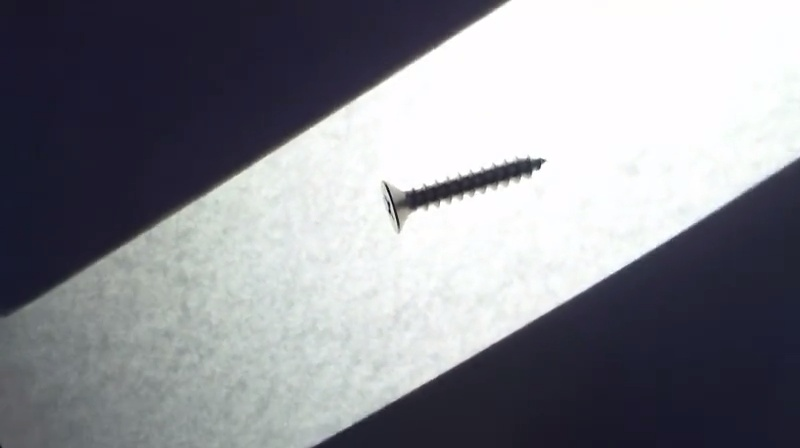S001: (375, 149, 548, 234)
